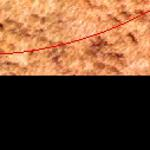alive: (7, 8, 148, 73)
